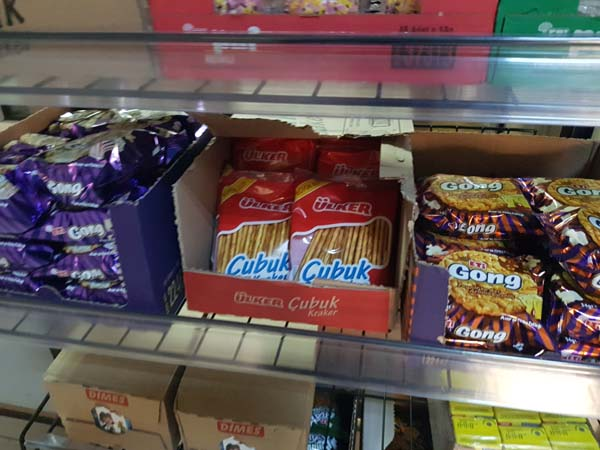eticubuk: (290, 164, 402, 296), (208, 163, 292, 278)
etigong: (422, 240, 548, 327), (419, 164, 543, 247), (543, 167, 600, 219)
